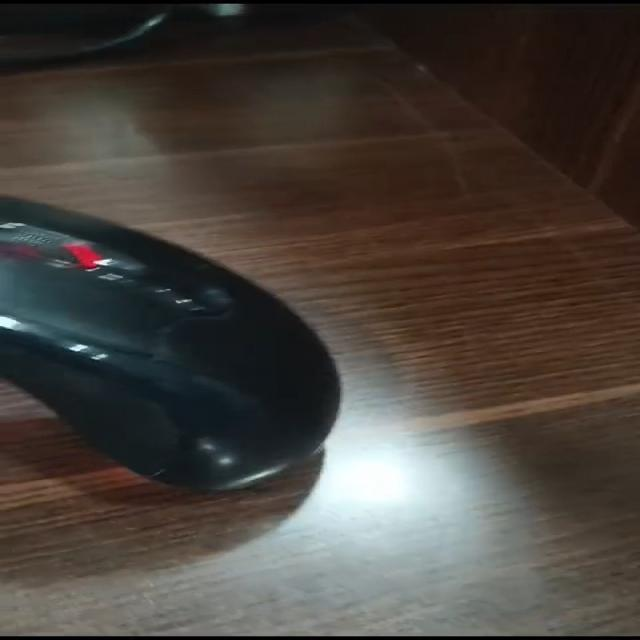Mouse: (0, 156, 366, 502)
